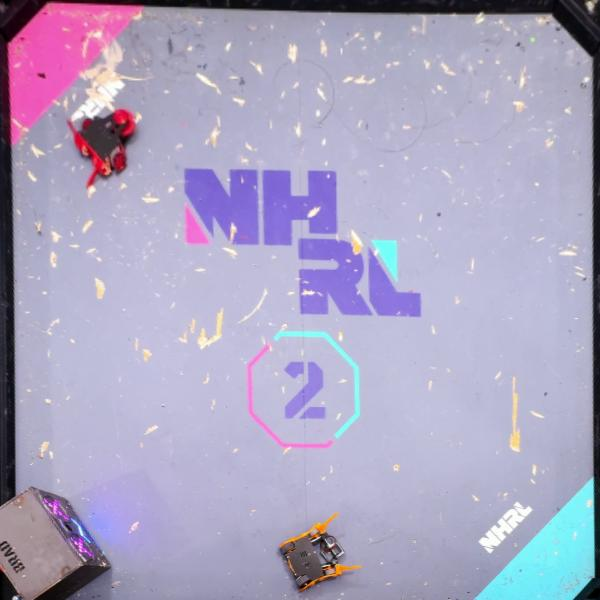housebot: (0, 484, 114, 599)
robot: (278, 509, 364, 596), (63, 108, 147, 194)
